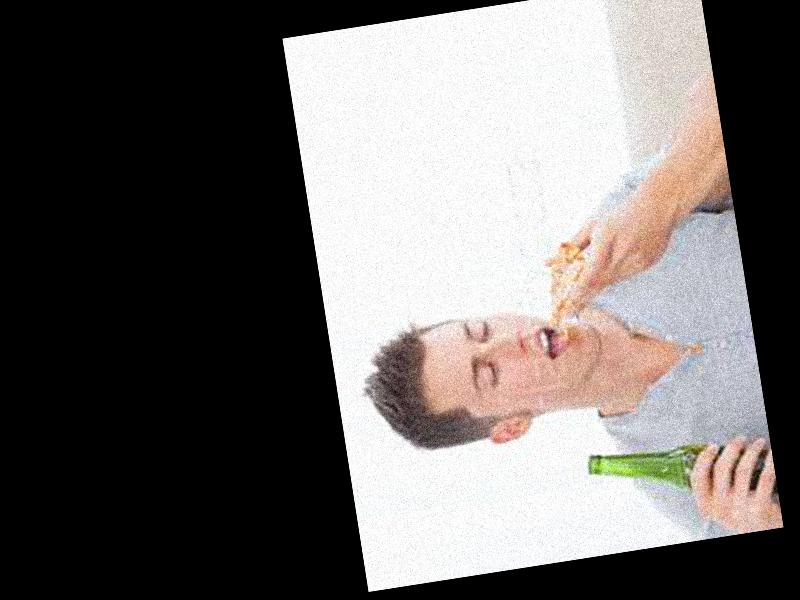Beer: (586, 427, 778, 523)
